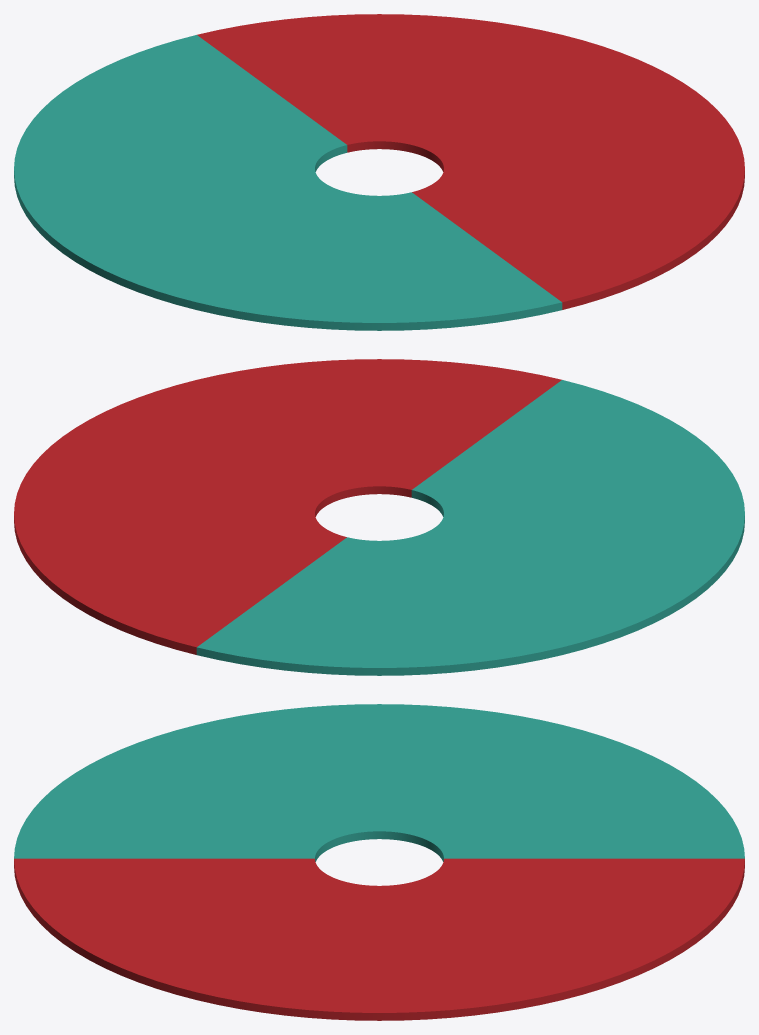
The model's file is air_preheater_temperature.glb.
The picture shows the model from 3 angles, top to bottom: view 1: azimuth 30°, elevation 25°; view 2: azimuth 150°, elevation 25°; view 3: azimuth 270°, elevation 25°; orthographic projection.
Visible parts, largest first — view 1: tz; view 2: tz; view 3: tz.
Boxes of the visible parts, left/top/right/bottom form: tz: left=14, top=14, right=744, bottom=330; tz: left=14, top=359, right=744, bottom=675; tz: left=14, top=704, right=744, bottom=1020.
Size of the model in its own units: 1.7 by 0.02 by 1.7.
